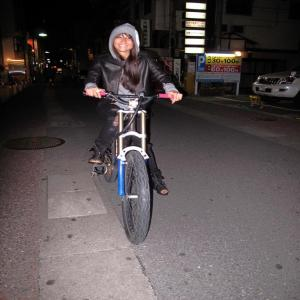Vehicle-registration-plate: (259, 87, 267, 92)
